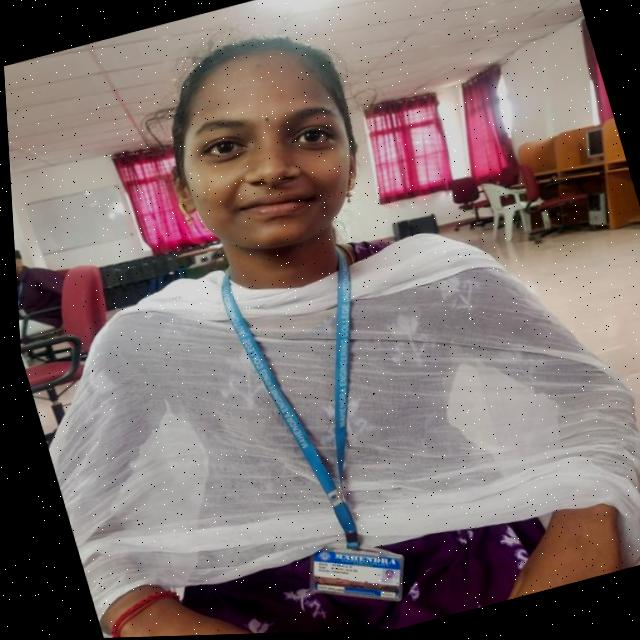id_card: (202, 241, 415, 631)
